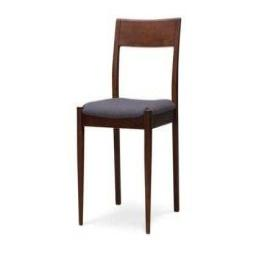Chair: (76, 20, 182, 233)
